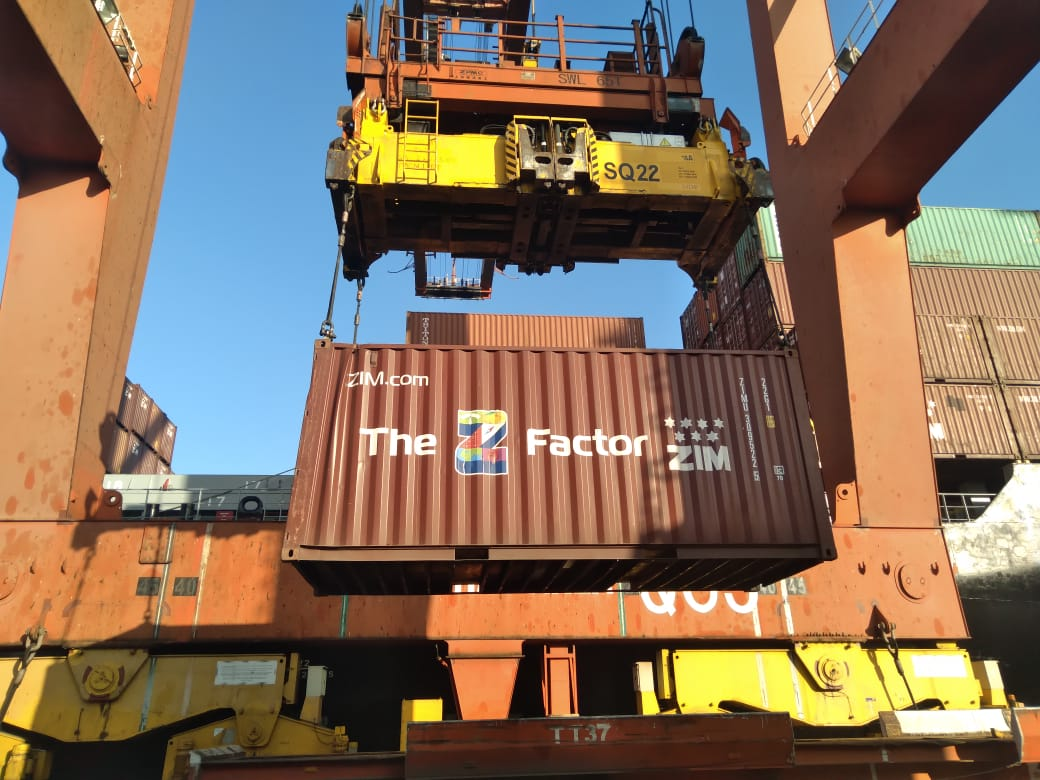bulged: (320, 351, 401, 477)
